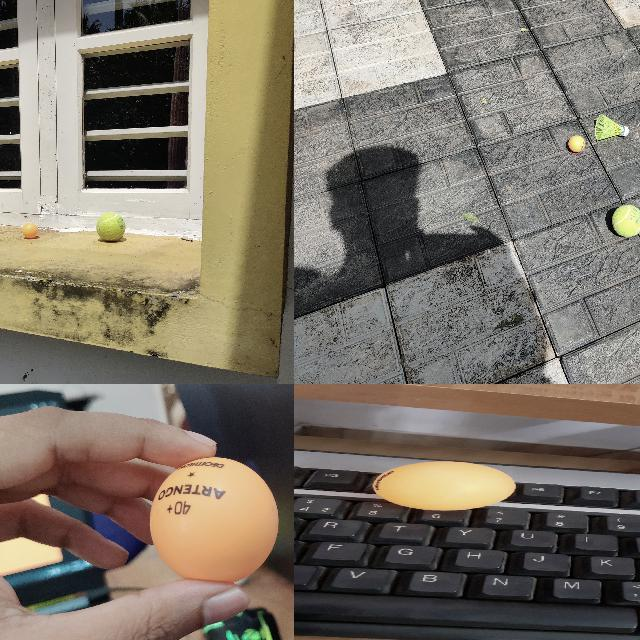ping-pong-ball: (150, 458, 276, 584), (372, 461, 514, 513), (22, 222, 38, 238), (568, 135, 584, 151)
